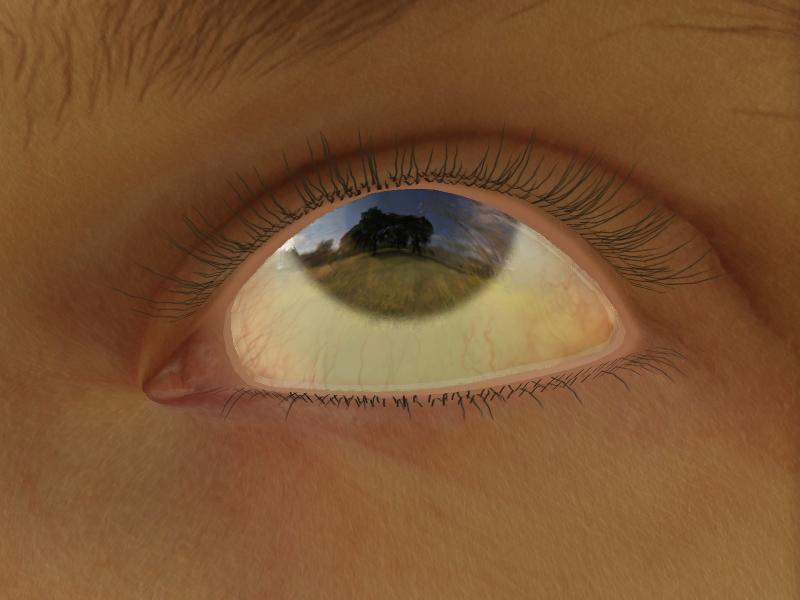eye: (284, 183, 512, 320)
